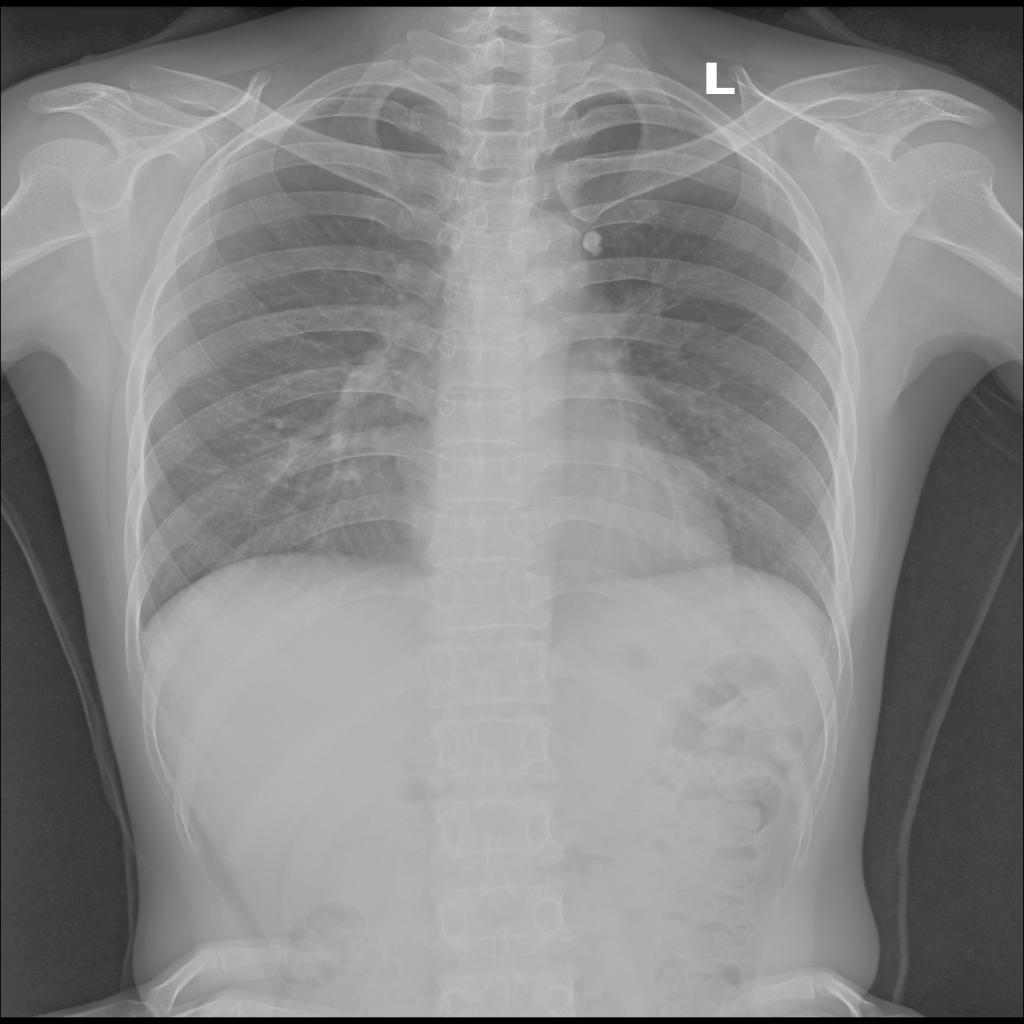Nodule: (578, 230, 604, 257)
